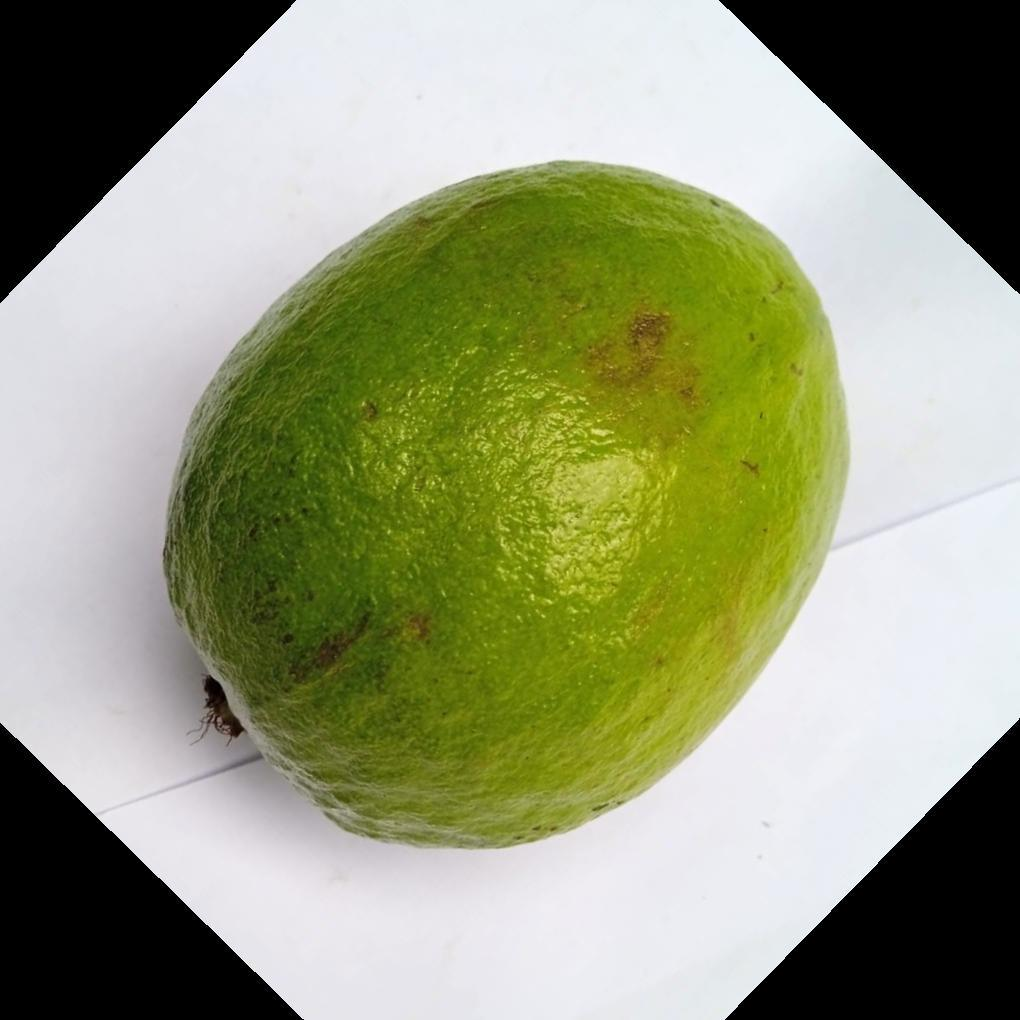FreshGuava: (159, 160, 852, 854)
